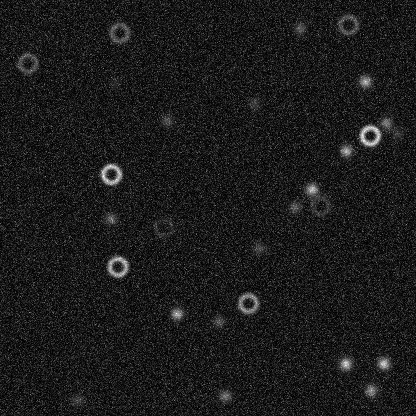Ring: (308, 193, 332, 217), (107, 20, 131, 44), (15, 51, 39, 75), (236, 291, 260, 315), (336, 12, 360, 36), (105, 254, 129, 278), (151, 215, 175, 239), (357, 123, 381, 147), (99, 162, 123, 186)
Spot: (303, 181, 319, 197), (210, 312, 226, 328), (362, 382, 378, 398), (159, 112, 175, 128), (389, 125, 405, 141), (375, 355, 391, 371), (338, 142, 354, 158), (286, 198, 302, 214), (102, 210, 118, 226), (291, 20, 307, 36), (337, 355, 353, 371), (356, 73, 372, 89), (107, 74, 123, 90), (168, 305, 184, 321), (69, 392, 85, 408), (246, 95, 262, 111), (377, 114, 393, 130), (217, 388, 233, 404), (251, 240, 267, 256)
